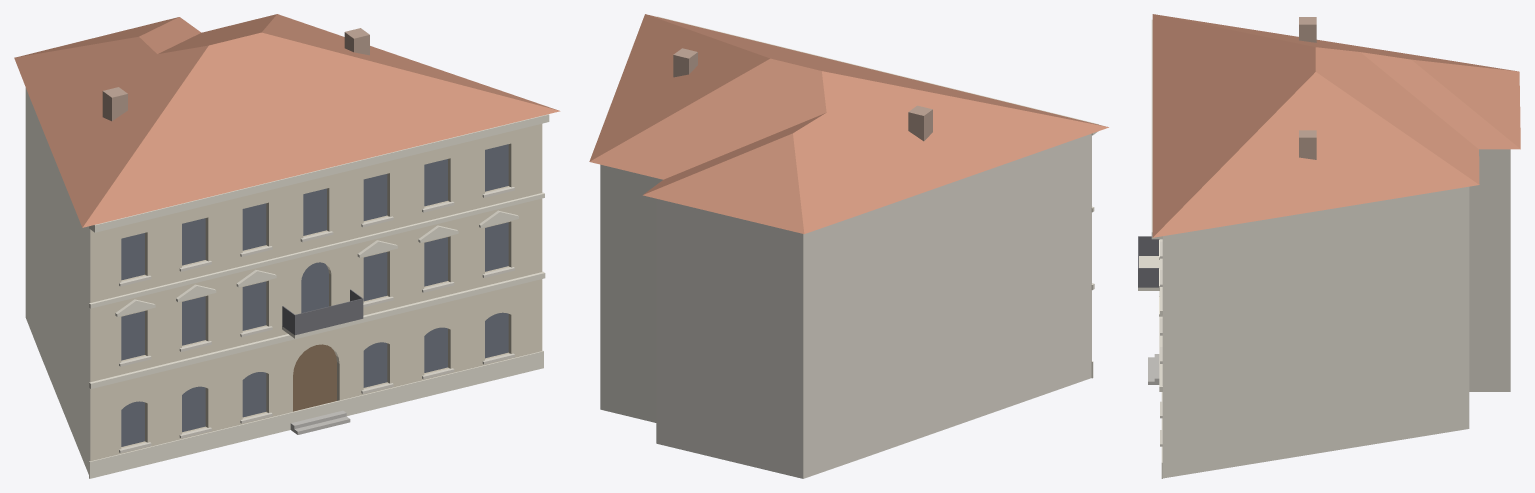
3 views of the same model, side by side, from view 1: azimuth 30°, elevation 25°; view 2: azimuth 150°, elevation 25°; view 3: azimuth 270°, elevation 25° (orthographic). The views are drawn at different scales.
Visible parts, largest first — view 1: CP_774_Masonry, CP_774_Roof, CP_774_Cornice_main_plinth_0, CP_774_Cornice_main_eave_0, CP_774_Cornice_main_string1_0, CP_774_Cornice_main_string2_0, CP_774_Balcony_0_rail_f, CP_774_Chimney_0, CP_774_Chimney_1; view 2: CP_774_Masonry, CP_774_Roof, CP_774_Chimney_0, CP_774_Chimney_1, CP_774_Cornice_main_eave_0; view 3: CP_774_Masonry, CP_774_Roof, CP_774_Chimney_1, CP_774_Cornice_main_eave_0, CP_774_Chimney_0.
Boxes of the visible parts, <box> form: CP_774_Masonry: <box>25,88,542,474</box>; CP_774_Roof: <box>14,14,560,227</box>; CP_774_Cornice_main_plinth_0: <box>89,351,543,478</box>; CP_774_Cornice_main_eave_0: <box>89,114,549,232</box>; CP_774_Cornice_main_string1_0: <box>89,271,545,388</box>; CP_774_Cornice_main_string2_0: <box>89,192,544,308</box>; CP_774_Balcony_0_rail_f: <box>294,298,363,335</box>; CP_774_Chimney_0: <box>102,87,127,121</box>; CP_774_Chimney_1: <box>344,28,369,55</box>; CP_774_Masonry: <box>600,134,1091,478</box>; CP_774_Roof: <box>589,14,1108,234</box>; CP_774_Chimney_0: <box>908,105,932,141</box>; CP_774_Chimney_1: <box>673,48,697,77</box>; CP_774_Cornice_main_eave_0: <box>657,16,1098,135</box>; CP_774_Masonry: <box>1162,149,1510,478</box>; CP_774_Roof: <box>1152,14,1520,237</box>; CP_774_Chimney_1: <box>1299,130,1316,159</box>; CP_774_Cornice_main_eave_0: <box>1151,19,1162,239</box>; CP_774_Chimney_0: <box>1299,17,1316,42</box>.
Bounding box in the file's own units: 23.73 × 15.45 × 17.14.
